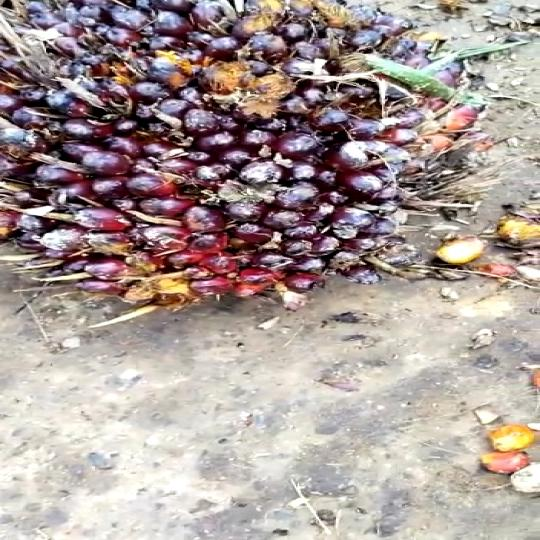masak: (0, 0, 495, 306)
